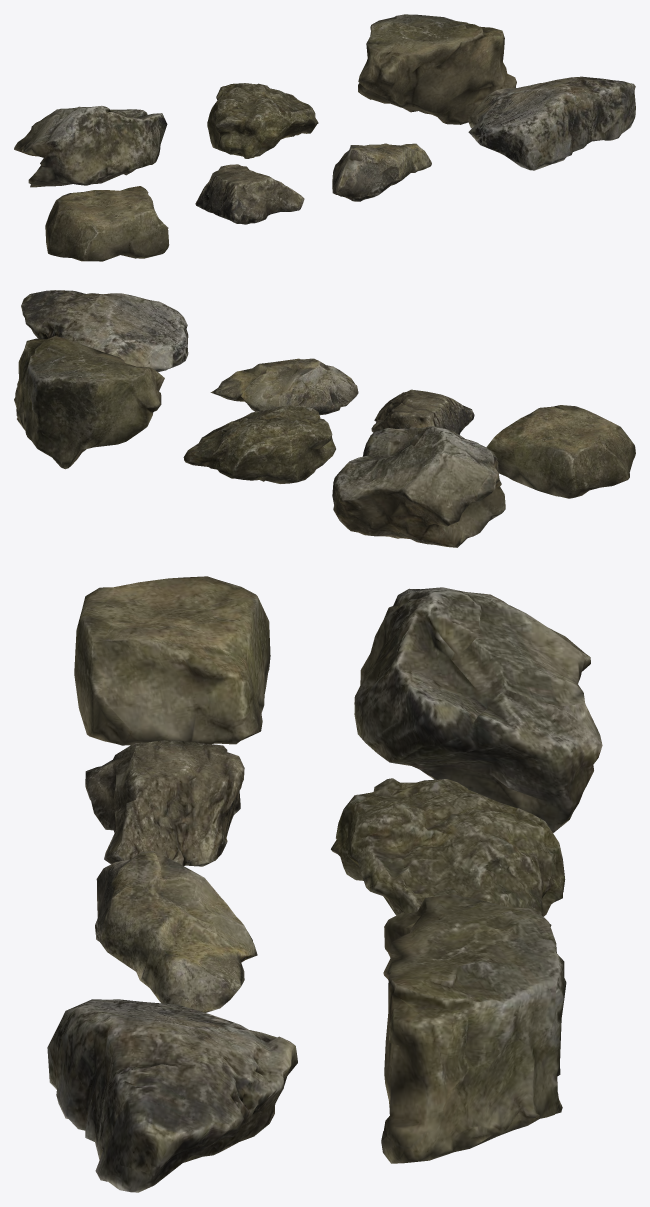
The model's file is rock_moss_set_02.glb.
3 views of the same model, one above another, from view 1: azimuth 30°, elevation 25°; view 2: azimuth 150°, elevation 25°; view 3: azimuth 270°, elevation 25° (orthographic). The views are drawn at different scales.
Size of the model in its own units: 8.27 by 1.36 by 3.41.
Materials: 1 (1 with a texture image).
